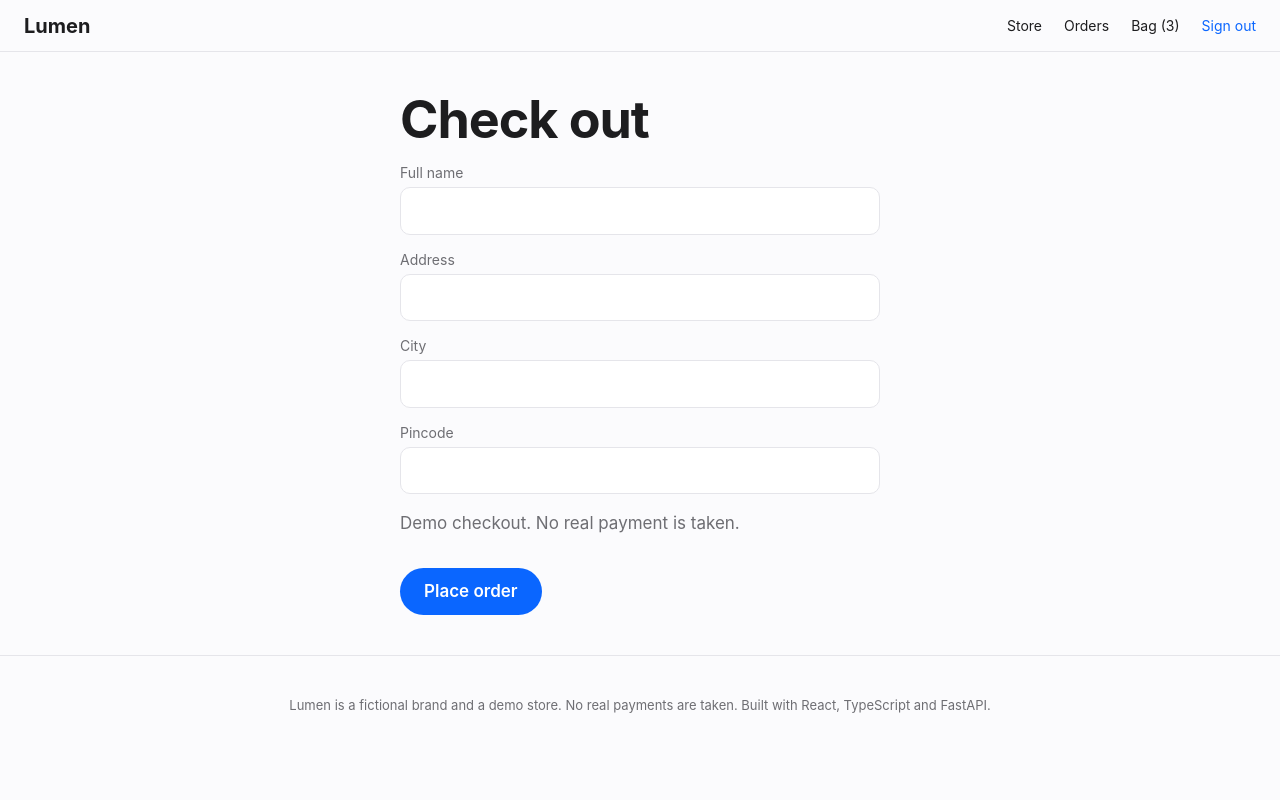
Test: Lumen store › places an order with an idempotency key and clears the bag
The width and height of the screenshot is (1280, 800).
Type "Asha Rao" into the field labelled "Full name".
click(640, 211); type("Asha Rao")  # box [400,187,880,235]
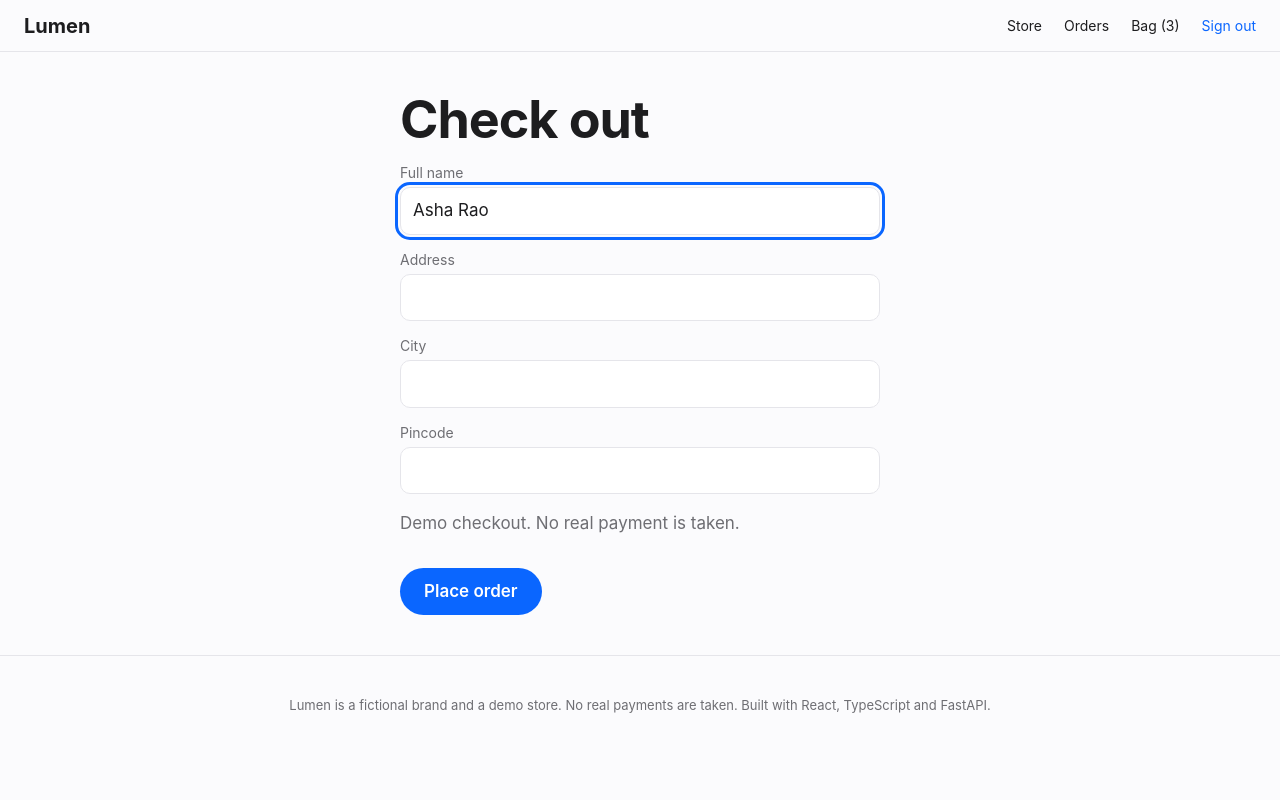
Type "12 MG Road" into the field labelled "Address".
click(640, 297); type("12 MG Road")  # box [400,274,880,321]
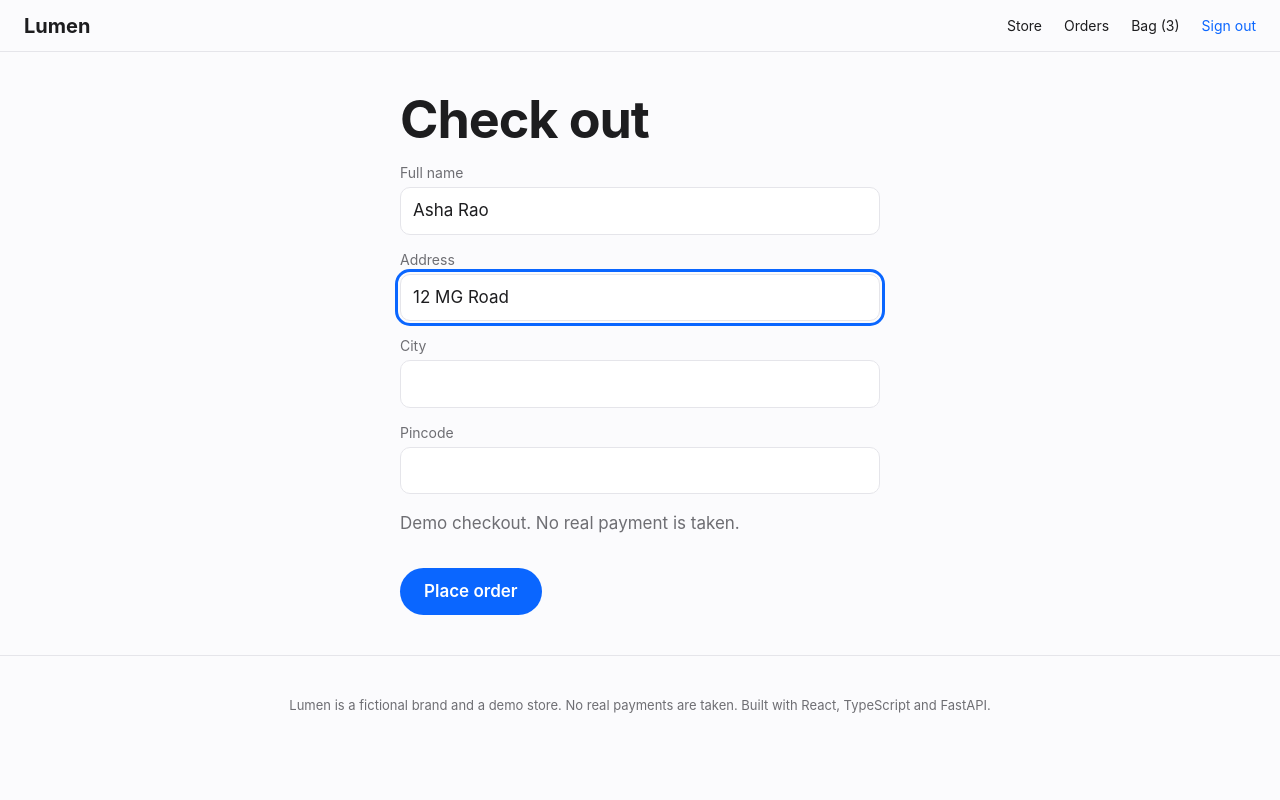
Type "Hyderabad" into the field labelled "City".
click(640, 384); type("Hyderabad")  # box [400,360,880,408]
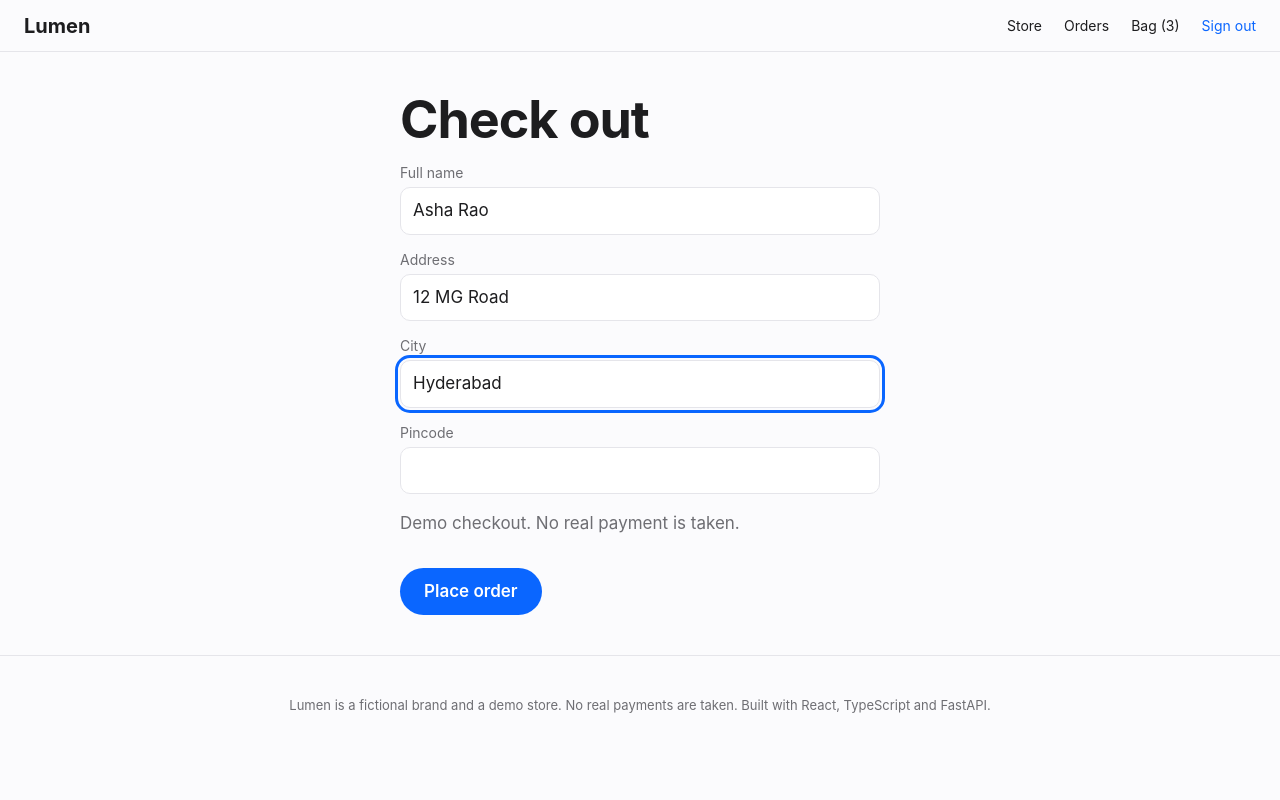
Type "500001" into the field labelled "Pincode".
click(640, 470); type("500001")  # box [400,447,880,494]
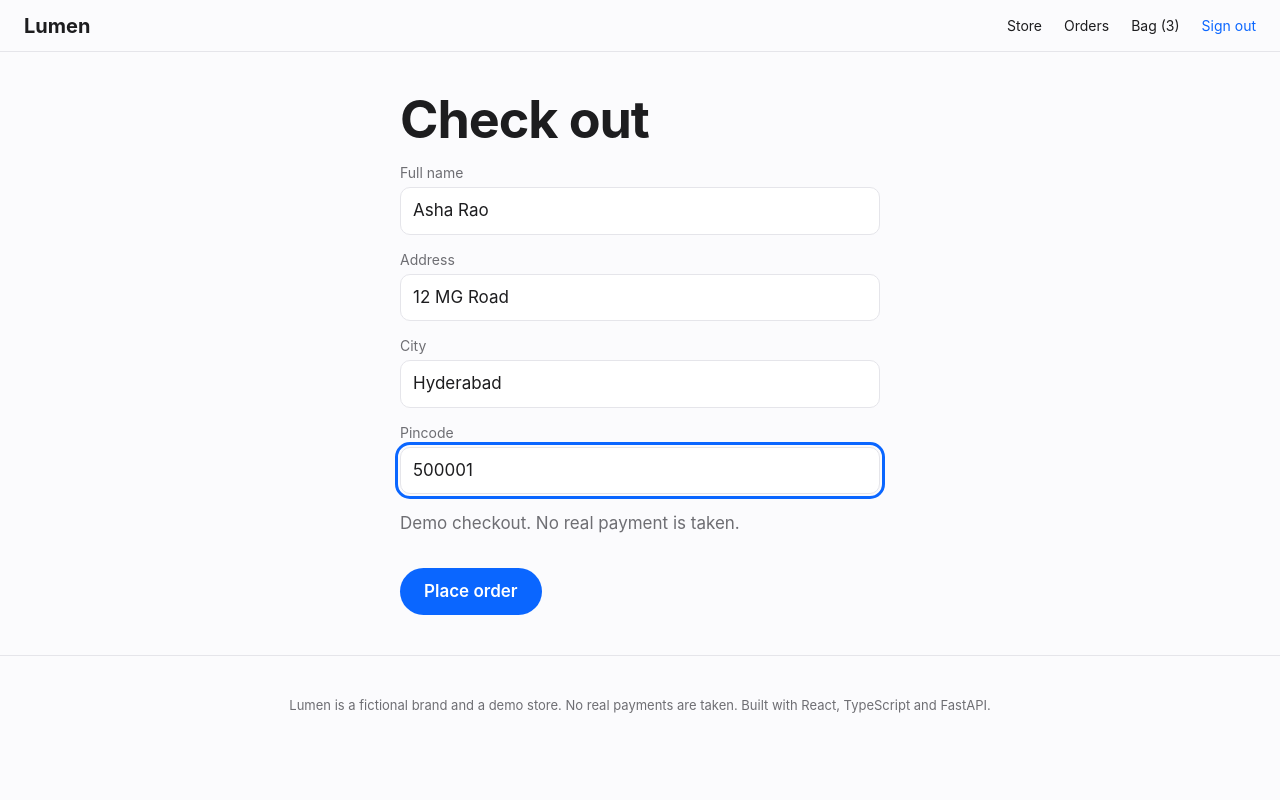
Click the button "Place order".
click(471, 591)  # box [400,568,542,615]
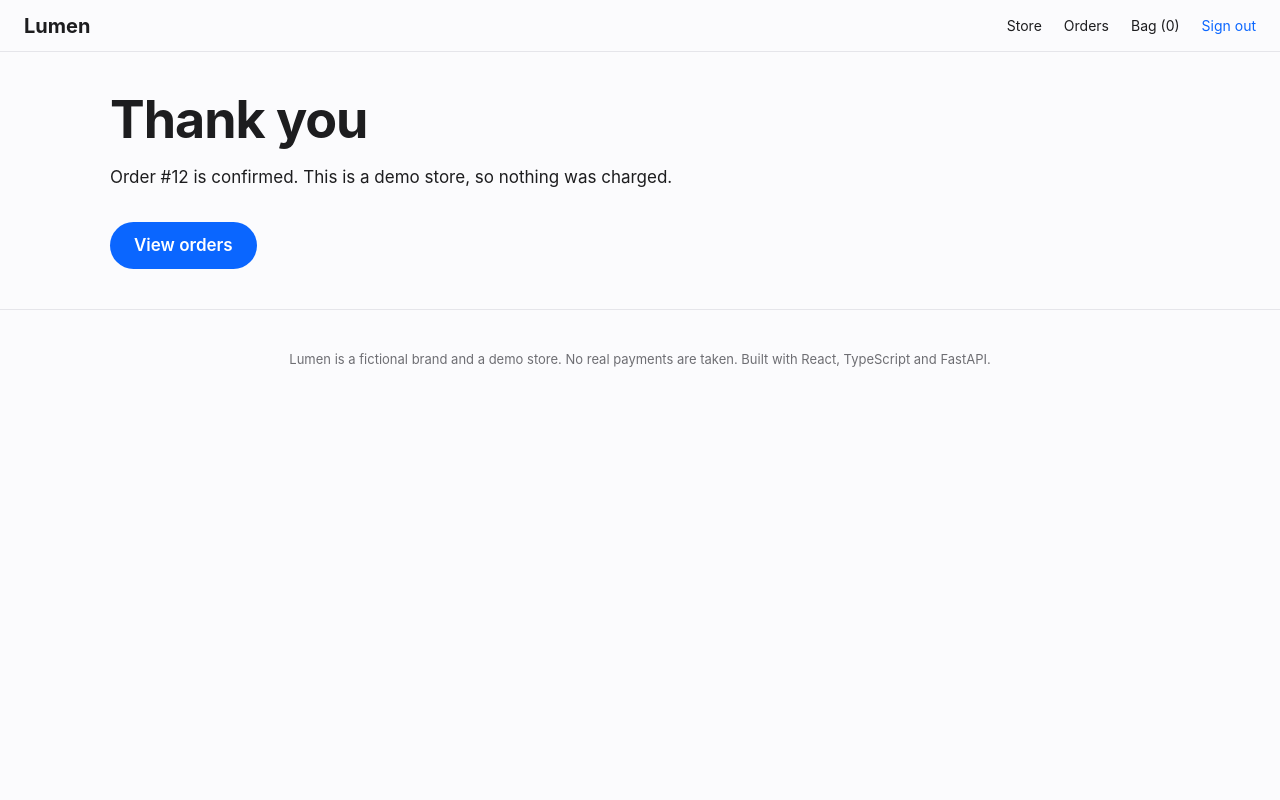
Expected: the text "Order #12 is confirmed. This is a demo store, so nothing was charged." is shown, [110,167,672,187]
